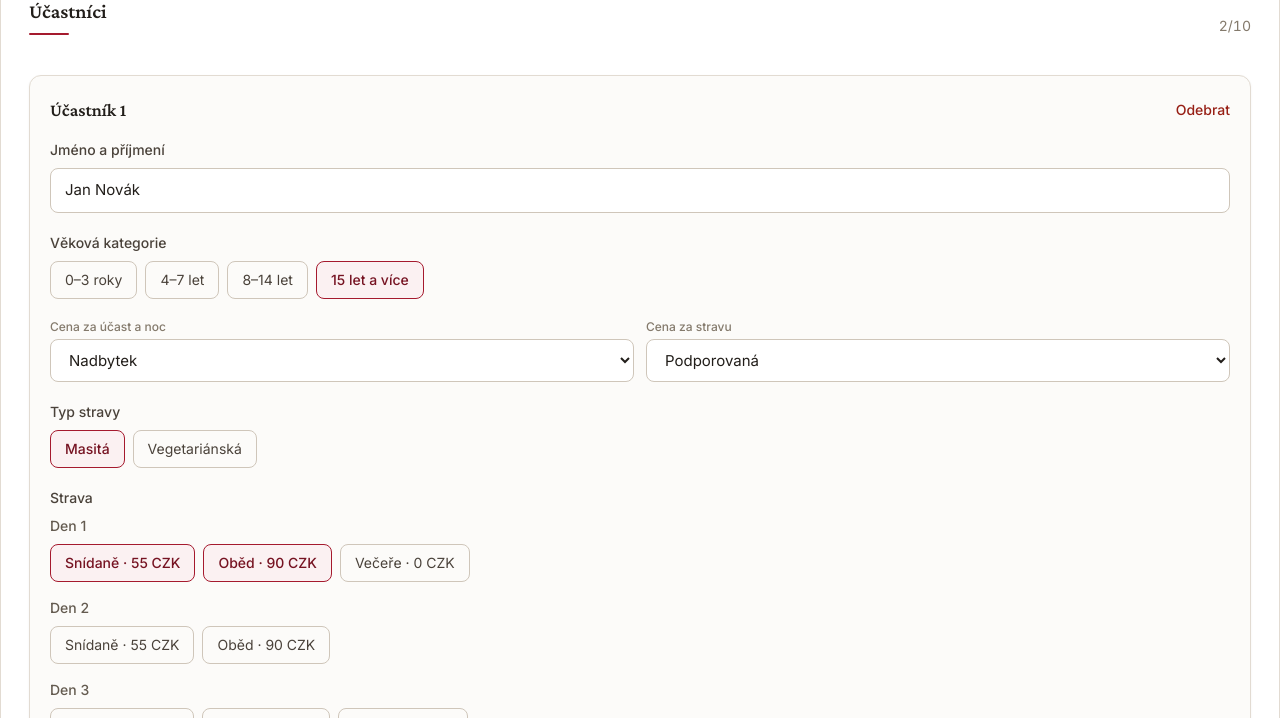
Test case: the stored registration, shown as it is › a failure does not stick: coming back to a state that once failed asks again instead of reporting it failed
The width and height of the screenshot is (1280, 718).
(page scrolled)
Select "Standardní" in the dropdown with id "tier-participation-p1" at (342, 360), box [50,338,634,382]
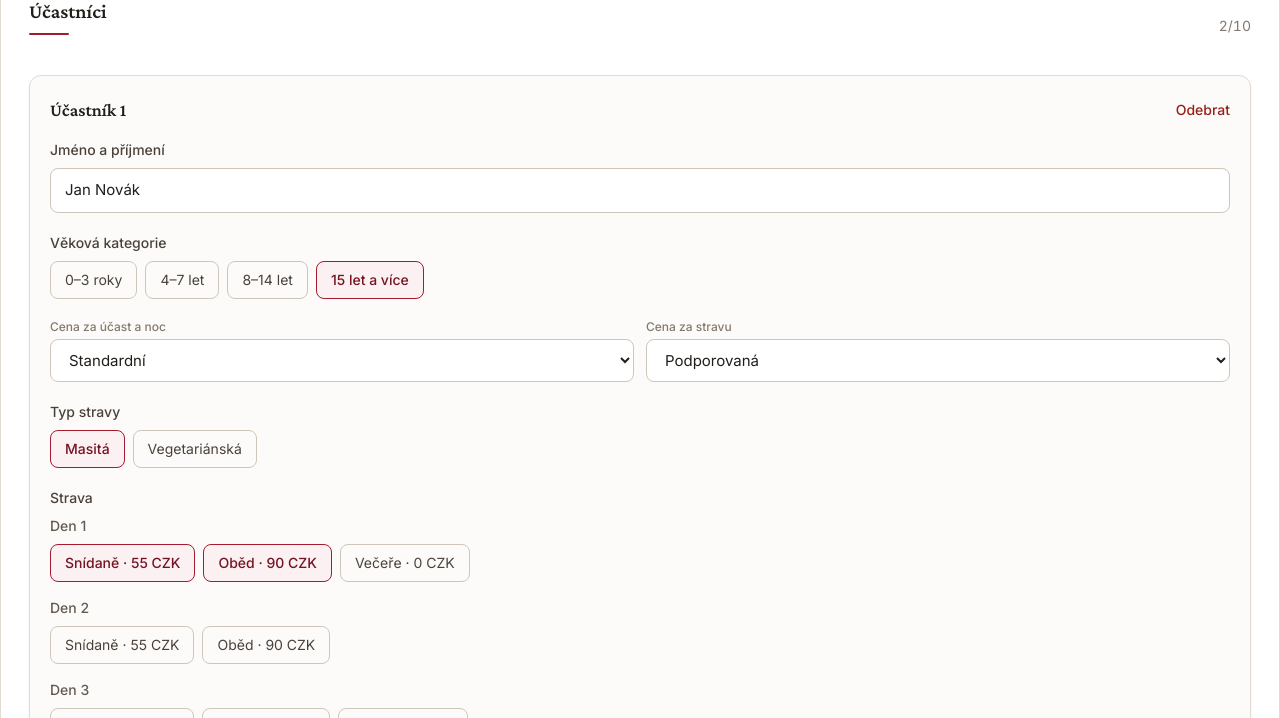
Select "Podporovaná" in the dropdown with id "tier-participation-p1" at (342, 360), box [50,338,634,382]
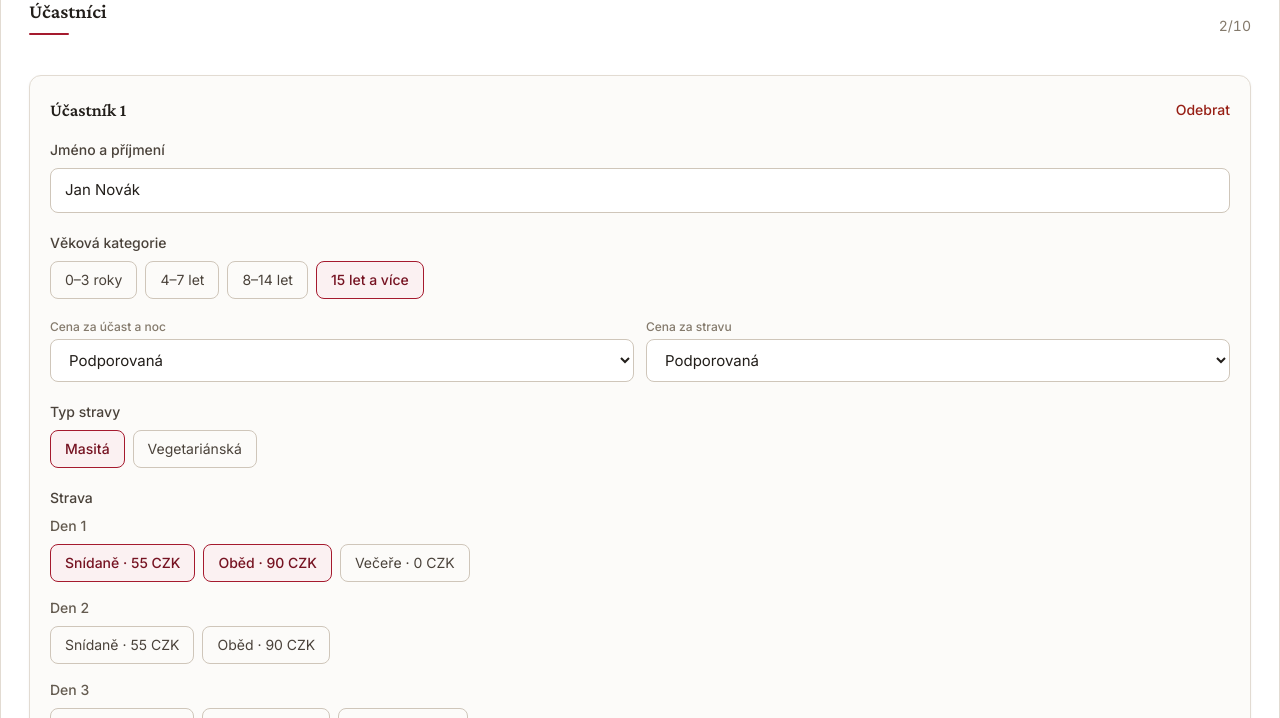
Select "Standardní" in the dropdown with id "tier-participation-p1" at (342, 360), box [50,338,634,382]
(page scrolled)
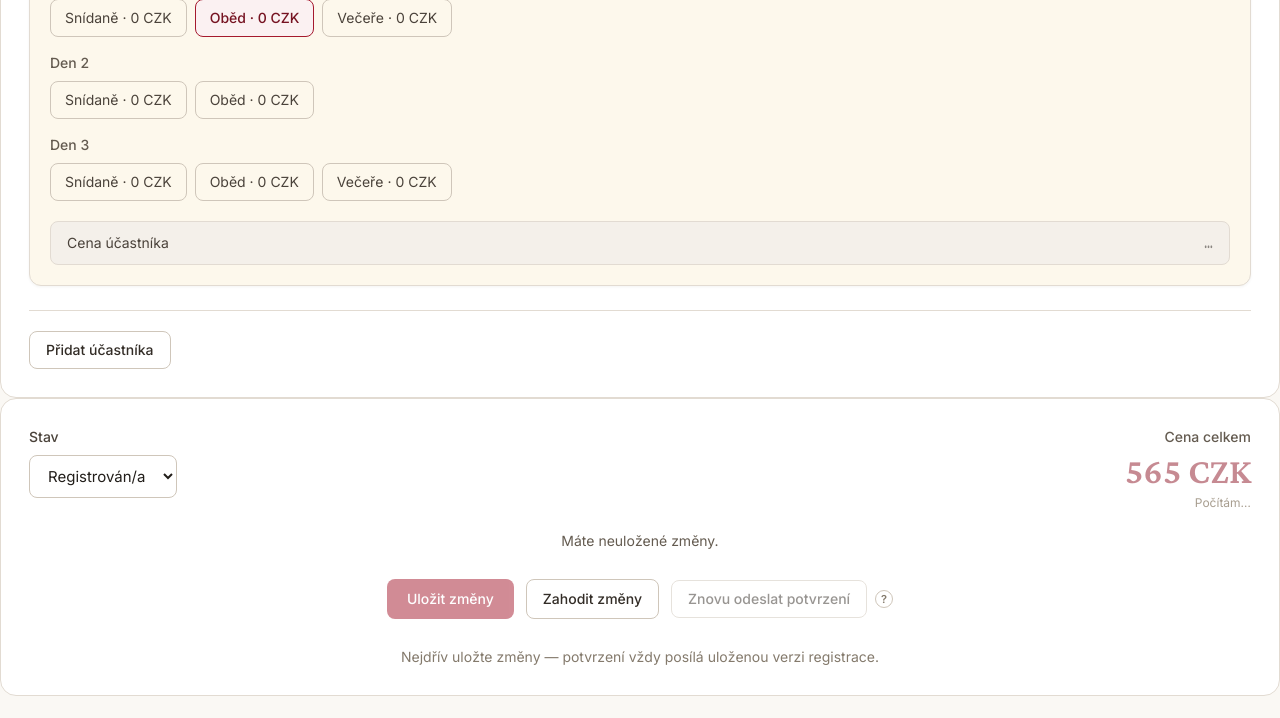
Result: the text "Počítám…" is shown at [1195,495,1251,510]
